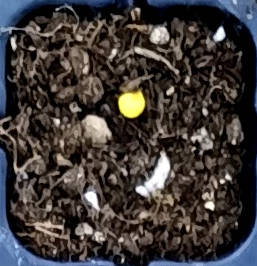pepper seed: (43, 28, 190, 148)
